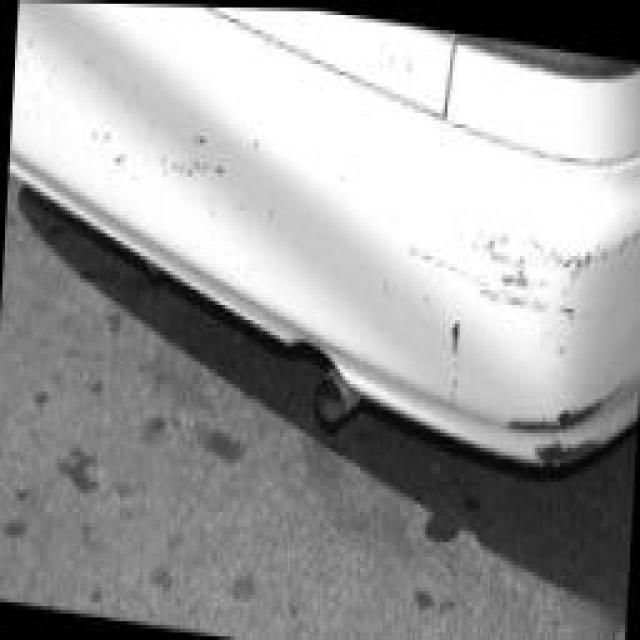Bumper: (396, 189, 640, 479)
